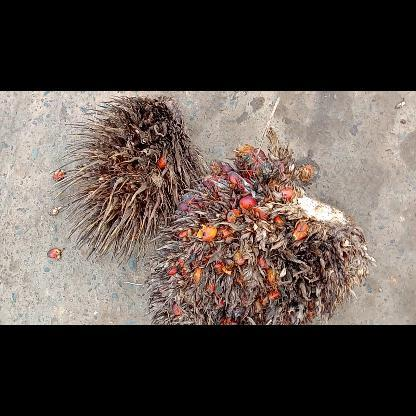Janjang kosong: (51, 95, 209, 267)
Terlalu masak: (141, 128, 375, 324)
